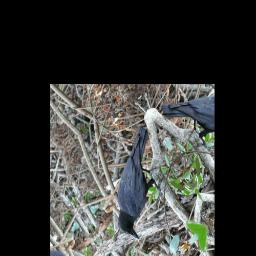Crow: (87, 121, 188, 247)
